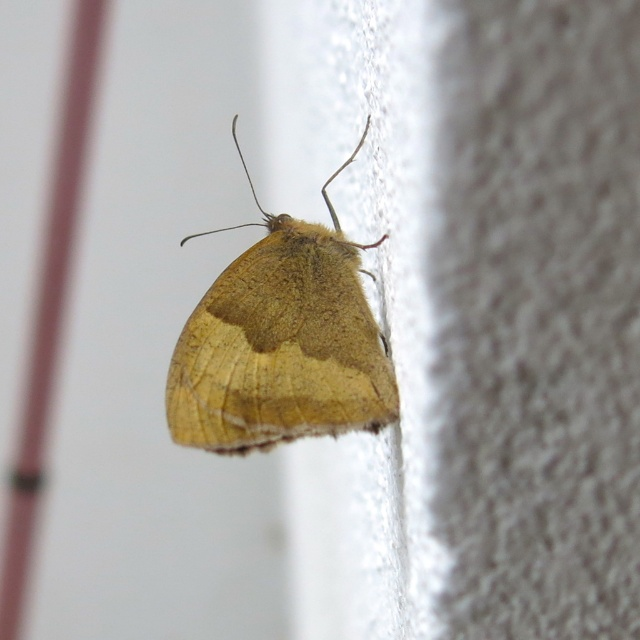Butterfly: (151, 110, 402, 472)
